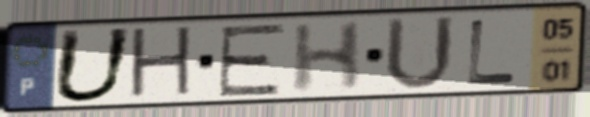E: (214, 21, 289, 99)
H: (288, 18, 368, 96), (126, 23, 196, 104)
L: (464, 16, 521, 87)
U: (48, 25, 138, 106), (381, 14, 458, 94)
